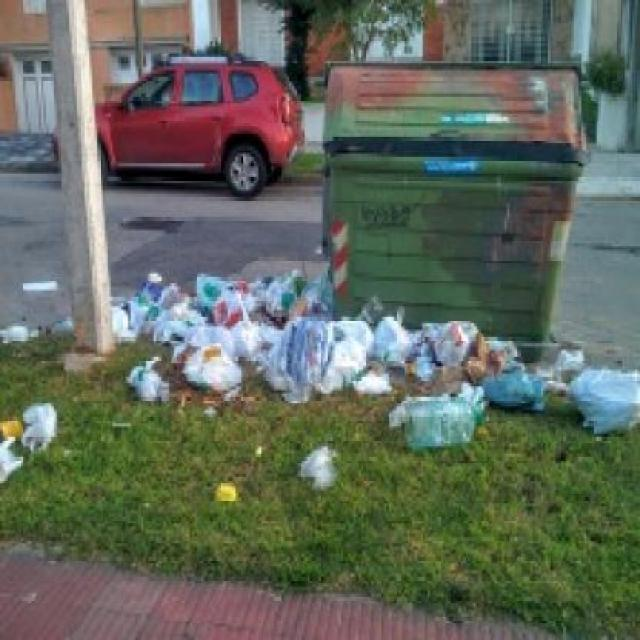garbage: (108, 294, 367, 354), (371, 303, 509, 366), (546, 343, 638, 420), (259, 360, 392, 397), (392, 394, 486, 444), (0, 395, 51, 482), (142, 274, 326, 291), (125, 351, 176, 404), (182, 360, 238, 390), (297, 448, 333, 488), (0, 317, 72, 334), (208, 474, 239, 494), (23, 274, 59, 291)
